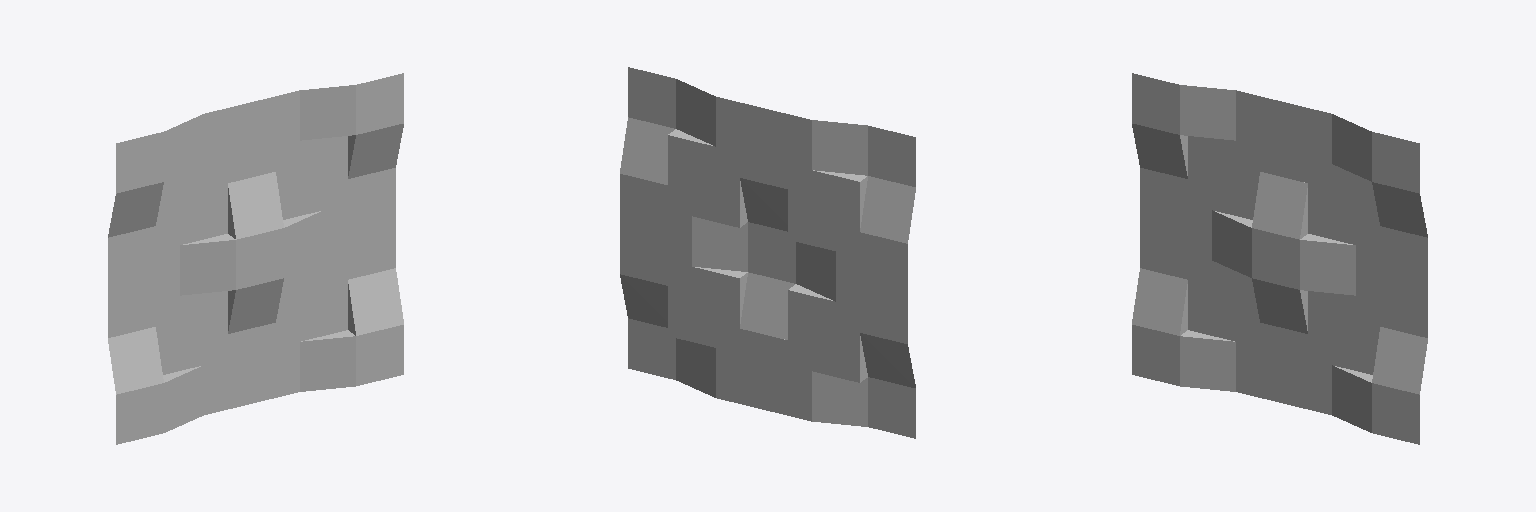
File: tag1_3.obj
The picture shows the model from 3 angles: view 1: azimuth 30°, elevation 25°; view 2: azimuth 150°, elevation 25°; view 3: azimuth 330°, elevation 25°; orthographic projection.
Parts seen in each view (by area): view 1: Grid; view 2: Grid; view 3: Grid.
Part boxes in pixels (x1,y1,x2,y2): Grid: (108, 73, 403, 444); Grid: (620, 67, 915, 438); Grid: (1132, 73, 1427, 444).
Size of the model in its own units: 30 by 30 by 1.5.